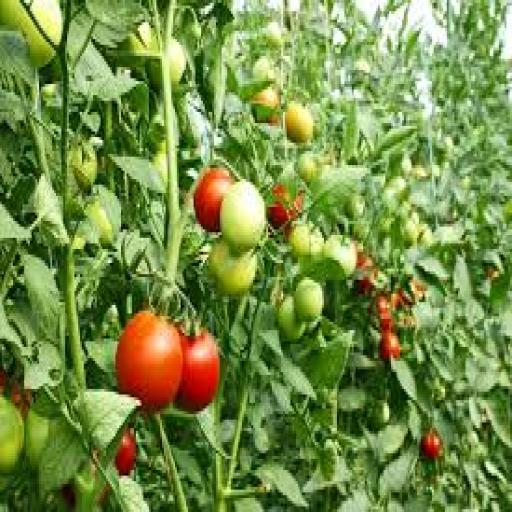tomato: (116, 311, 182, 411), (0, 0, 63, 67), (177, 331, 219, 411), (220, 182, 266, 251), (209, 238, 256, 296), (194, 168, 232, 232), (0, 398, 24, 475), (69, 140, 98, 193), (25, 409, 50, 470), (269, 185, 303, 229), (86, 199, 115, 246), (323, 236, 357, 276), (285, 101, 314, 145), (295, 277, 323, 321), (278, 297, 305, 341), (289, 224, 323, 257), (122, 23, 156, 55), (252, 87, 279, 123), (116, 429, 135, 475), (168, 40, 186, 86), (382, 177, 407, 209), (358, 252, 377, 293), (168, 40, 186, 83), (421, 429, 443, 461), (298, 152, 320, 184), (321, 440, 338, 481), (12, 381, 31, 416), (367, 401, 390, 428), (380, 331, 400, 360), (401, 213, 420, 243), (153, 146, 167, 184), (377, 297, 392, 332), (254, 56, 275, 81), (345, 194, 364, 218), (390, 289, 411, 310), (41, 82, 61, 103), (265, 23, 282, 47), (410, 277, 426, 302), (60, 485, 76, 509), (419, 224, 433, 246), (354, 59, 372, 75), (401, 154, 413, 176), (380, 311, 392, 332), (377, 297, 389, 316), (412, 166, 428, 179), (503, 199, 511, 223), (0, 370, 7, 394), (431, 163, 441, 179)
